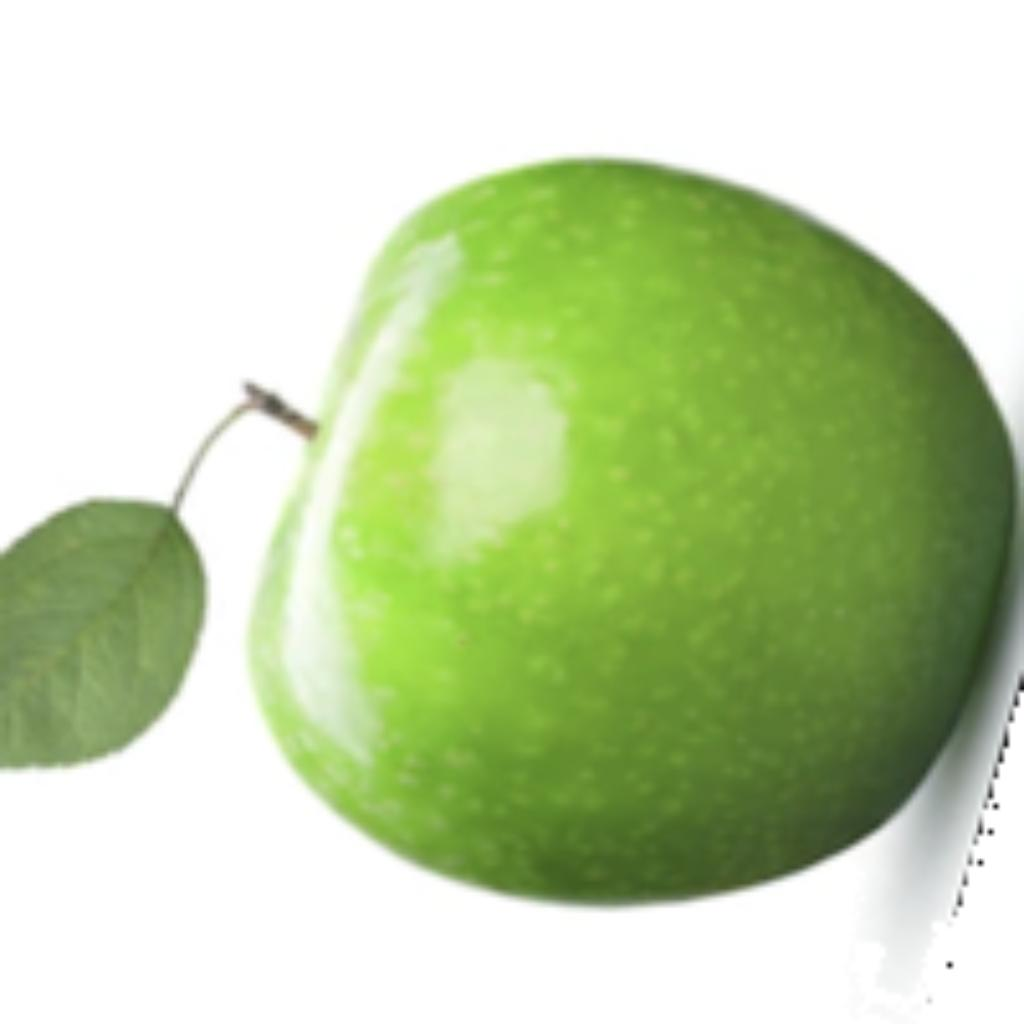apple: (161, 148, 1019, 1014)
